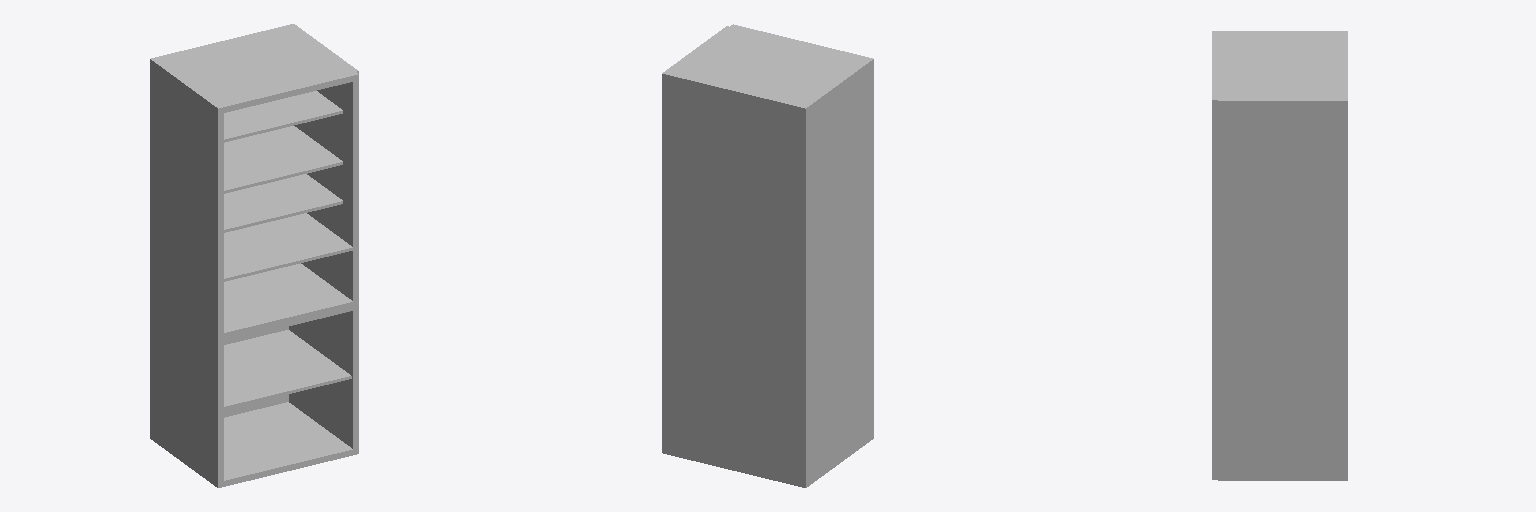
File: KitchenOPEN_Export-10.obj
3 views of the same model, side by side, from view 1: azimuth 30°, elevation 25°; view 2: azimuth 150°, elevation 25°; view 3: azimuth 270°, elevation 25° (orthographic).
Visible parts, largest first — view 1: KitchenOPEN_Export-10; view 2: KitchenOPEN_Export-10; view 3: KitchenOPEN_Export-10.
Boxes of the visible parts, <box> form: KitchenOPEN_Export-10: <box>150,24,358,487</box>; KitchenOPEN_Export-10: <box>662,24,873,487</box>; KitchenOPEN_Export-10: <box>1212,31,1347,480</box>.
Bounding box in the file's own units: 50 × 126 × 41.